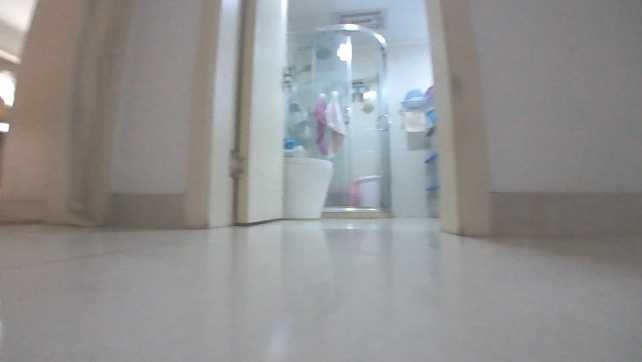door_anno: (188, 3, 292, 224)
door_sill: (321, 205, 391, 220)
toilet: (281, 154, 334, 220)
